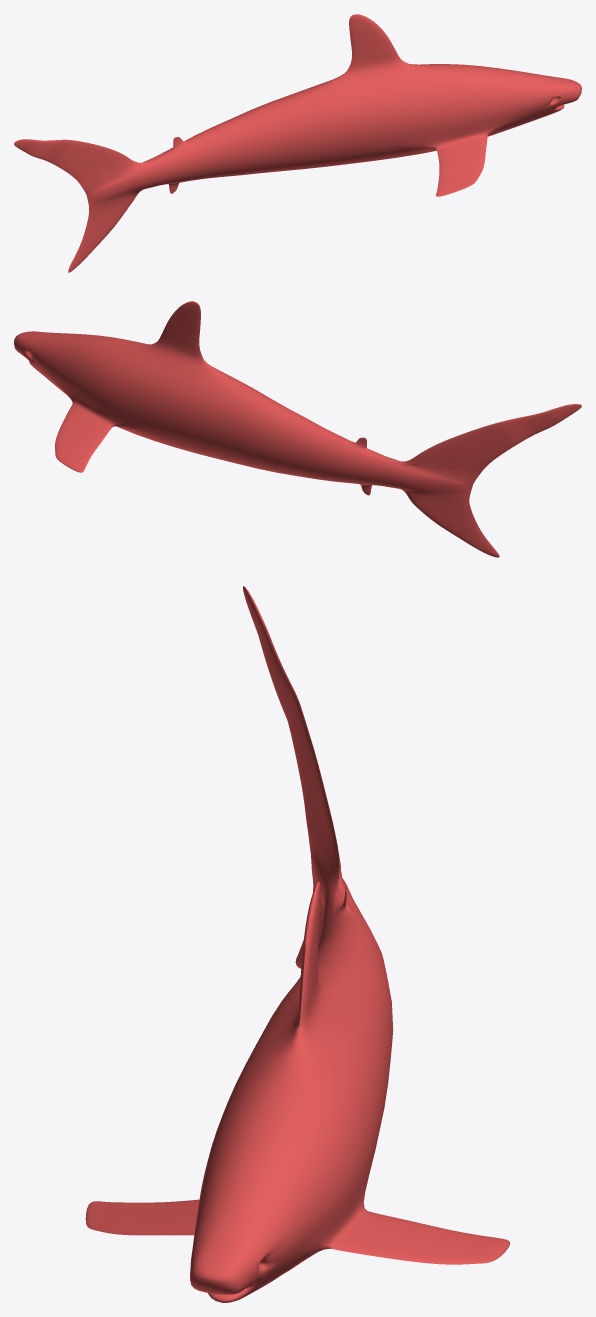
3 renders of one model, top to bottom at view 1: azimuth 30°, elevation 25°; view 2: azimuth 150°, elevation 25°; view 3: azimuth 270°, elevation 25°, orthographic. The views are drawn at different scales.
Parts seen in each view (by area): view 1: shark_DXF_001; view 2: shark_DXF_001; view 3: shark_DXF_001.
Boxes of the visible parts, x1,y1,x2,y2 form: shark_DXF_001: (14, 14, 581, 272); shark_DXF_001: (14, 301, 581, 557); shark_DXF_001: (85, 586, 509, 1302).
Size of the model in its own units: 3705 by 1159 by 1216.
